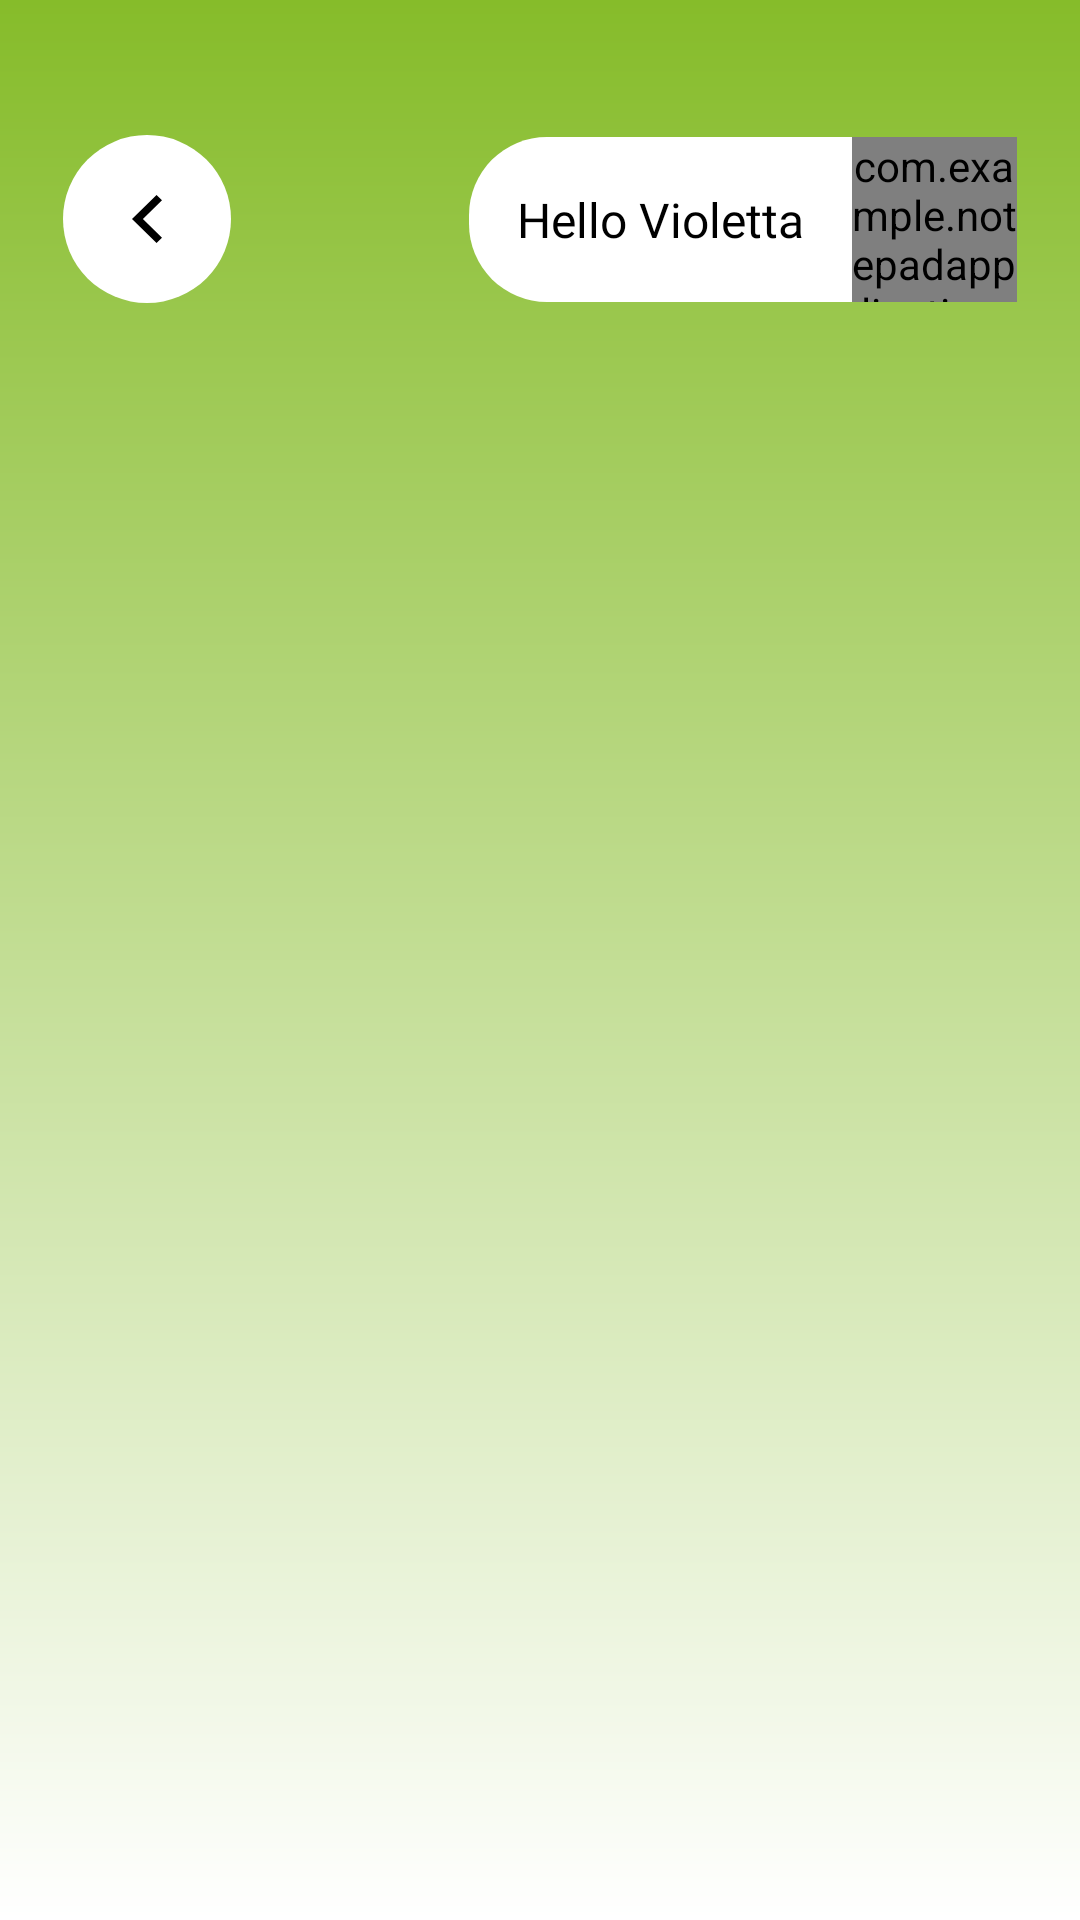

Icon click points for this 1080*1920 phone screenshot, format [x,y]:
arrow left: [147,219]
